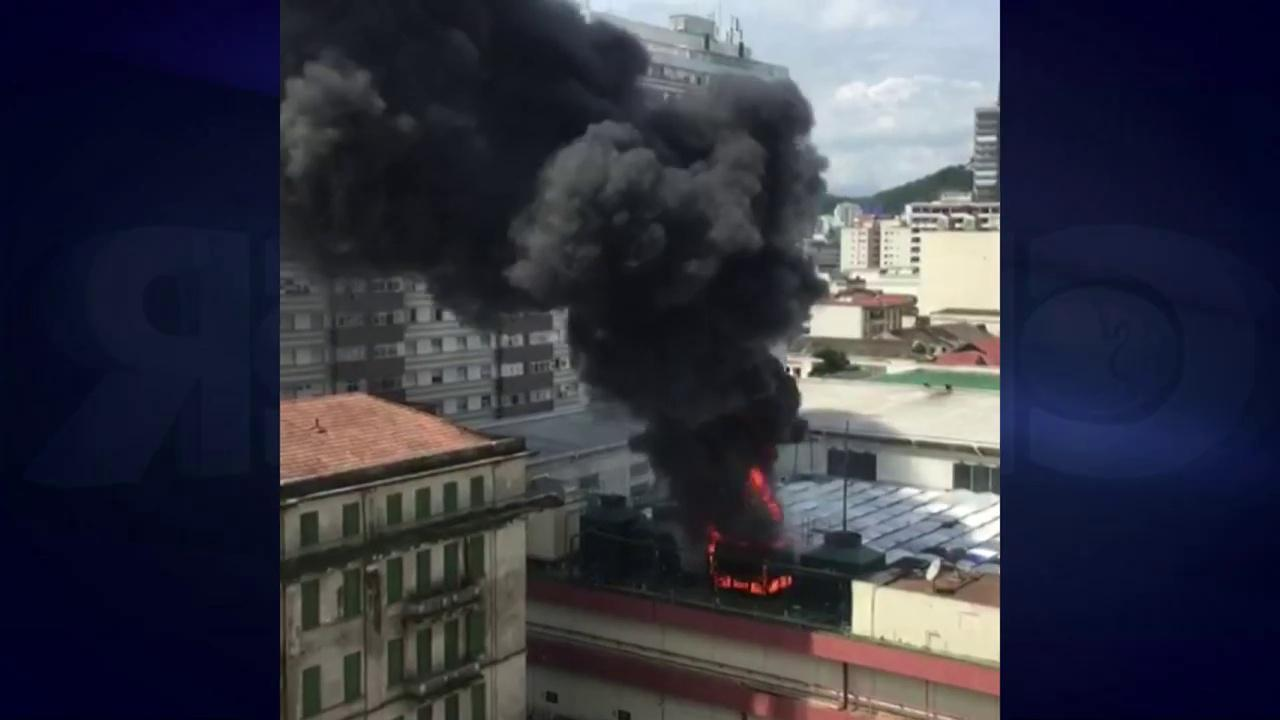Fire: (749, 461, 796, 520), (714, 566, 792, 595), (705, 529, 724, 563)
